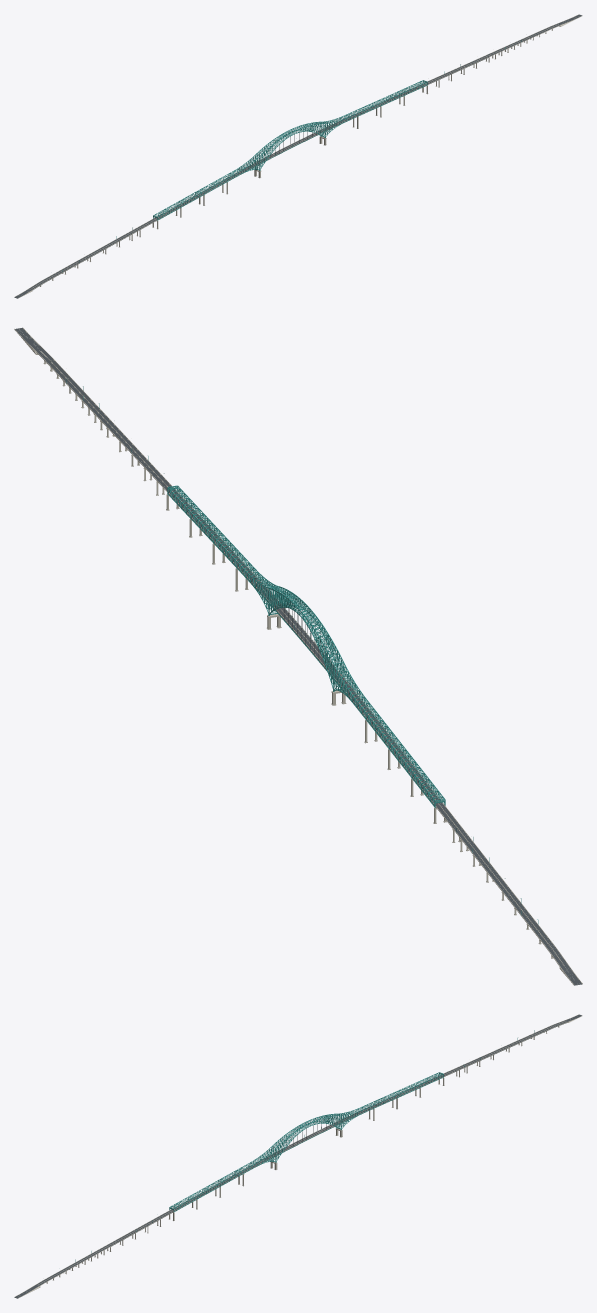
Rendered from pont-laviolette-near.glb.
The picture shows the model from 3 angles, top to bottom: view 1: azimuth 90°, elevation 25°; view 2: azimuth 150°, elevation 25°; view 3: azimuth 270°, elevation 25°; orthographic projection. The views are drawn at different scales.
Parts seen in each view (by area): view 1: pont-laviolette-2-steel, pont-laviolette-4-concrete, pont-laviolette-1-steel, pont-laviolette-3-steel, pont-laviolette-0-concrete, pont-laviolette-0-asphalt, pont-laviolette-4-asphalt; view 2: pont-laviolette-2-steel, pont-laviolette-1-steel, pont-laviolette-0-asphalt, pont-laviolette-3-steel, pont-laviolette-4-asphalt, pont-laviolette-4-concrete, pont-laviolette-0-concrete, pont-laviolette-2-asphalt; view 3: pont-laviolette-2-steel, pont-laviolette-4-concrete, pont-laviolette-3-steel, pont-laviolette-1-steel, pont-laviolette-4-asphalt, pont-laviolette-0-concrete, pont-laviolette-0-asphalt.
Boxes of the visible parts, x1=… form: pont-laviolette-2-steel: x1=237, y1=117, x2=343, y2=174; pont-laviolette-4-concrete: x1=422, y1=14, x2=582, y2=94; pont-laviolette-1-steel: x1=153, y1=169, x2=241, y2=220; pont-laviolette-3-steel: x1=339, y1=80, x2=427, y2=122; pont-laviolette-0-concrete: x1=14, y1=218, x2=156, y2=298; pont-laviolette-0-asphalt: x1=14, y1=219, x2=156, y2=298; pont-laviolette-4-asphalt: x1=426, y1=14, x2=581, y2=83; pont-laviolette-2-steel: x1=250, y1=574, x2=362, y2=701; pont-laviolette-1-steel: x1=352, y1=693, x2=445, y2=808; pont-laviolette-0-asphalt: x1=437, y1=805, x2=581, y2=985; pont-laviolette-3-steel: x1=167, y1=486, x2=260, y2=582; pont-laviolette-4-asphalt: x1=15, y1=328, x2=176, y2=492; pont-laviolette-4-concrete: x1=14, y1=327, x2=179, y2=510; pont-laviolette-0-concrete: x1=435, y1=805, x2=582, y2=985; pont-laviolette-2-asphalt: x1=253, y1=582, x2=359, y2=699; pont-laviolette-2-steel: x1=253, y1=1109, x2=359, y2=1165; pont-laviolette-4-concrete: x1=14, y1=1210, x2=174, y2=1298; pont-laviolette-3-steel: x1=170, y1=1161, x2=257, y2=1211; pont-laviolette-1-steel: x1=355, y1=1072, x2=443, y2=1114; pont-laviolette-4-asphalt: x1=14, y1=1210, x2=172, y2=1298; pont-laviolette-0-concrete: x1=442, y1=1014, x2=582, y2=1077; pont-laviolette-0-asphalt: x1=441, y1=1014, x2=581, y2=1076.
Bounding box in the file's own units: 2225 × 107 × 1882.
